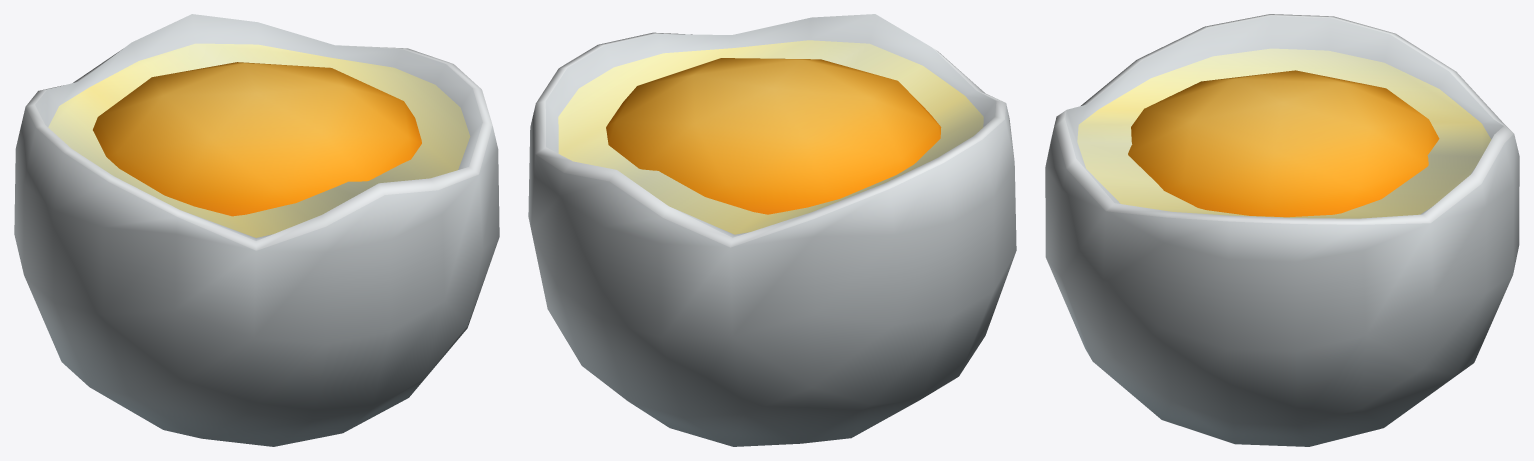
The model's file is egg_001.fbx.
3 renders of one model, left to right at view 1: azimuth 30°, elevation 25°; view 2: azimuth 150°, elevation 25°; view 3: azimuth 270°, elevation 25°, orthographic. The views are drawn at different scales.
Parts seen in each view (by area): view 1: egg_001; view 2: egg_001; view 3: egg_001.
Part boxes in pixels (left/top/right/bottom): egg_001: left=14, top=14, right=499, bottom=446; egg_001: left=528, top=14, right=1016, bottom=446; egg_001: left=1045, top=14, right=1519, bottom=446.
Size of the model in its own units: 6.31 by 6.31 by 4.6.
